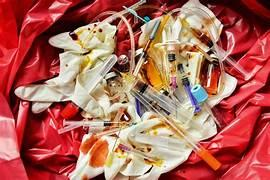Iv_Bottle: (200, 51, 220, 95), (105, 71, 128, 102)
